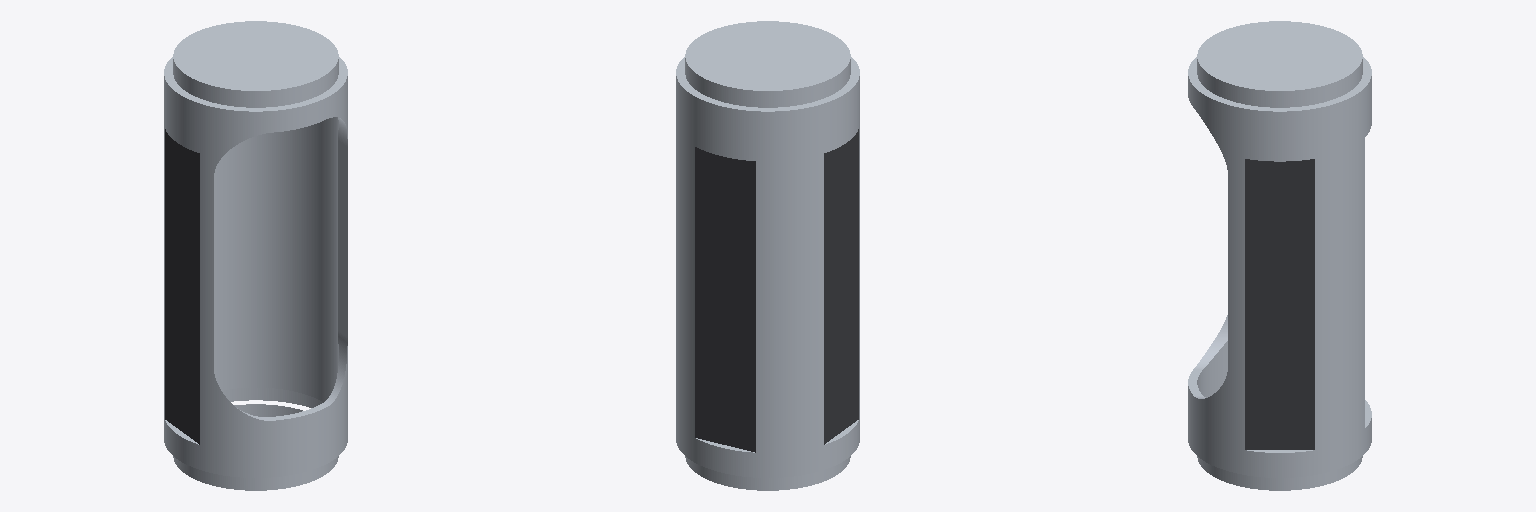
Rendered from boneless.obj.
The picture shows the model from 3 angles: view 1: azimuth 30°, elevation 25°; view 2: azimuth 150°, elevation 25°; view 3: azimuth 270°, elevation 25°; orthographic projection.
Parts seen in each view (by area): view 1: cryo.002; view 2: cryo.002; view 3: cryo.002.
Boxes of the visible parts, x1,y1,x2,y2 form: cryo.002: [164, 21, 347, 490]; cryo.002: [676, 21, 859, 490]; cryo.002: [1188, 21, 1371, 490].
Size of the model in its own units: 1 by 2.4 by 0.9999.